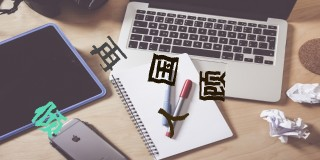倾: (29, 100, 67, 137)
再: (89, 35, 128, 72)
国: (146, 52, 180, 86)
顾: (198, 68, 227, 102)
